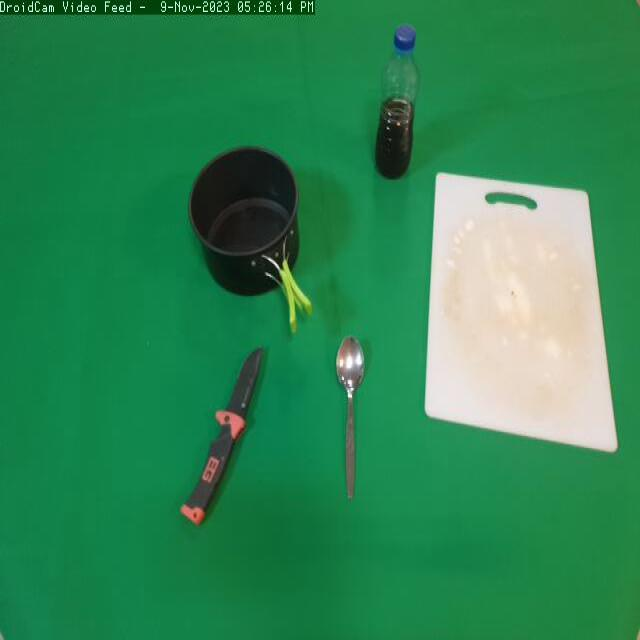cutting board: (422, 152, 623, 466)
fullbottle: (372, 23, 434, 206)
knife: (171, 335, 276, 540)
pot: (184, 140, 334, 341)
spoon: (330, 324, 381, 516)
